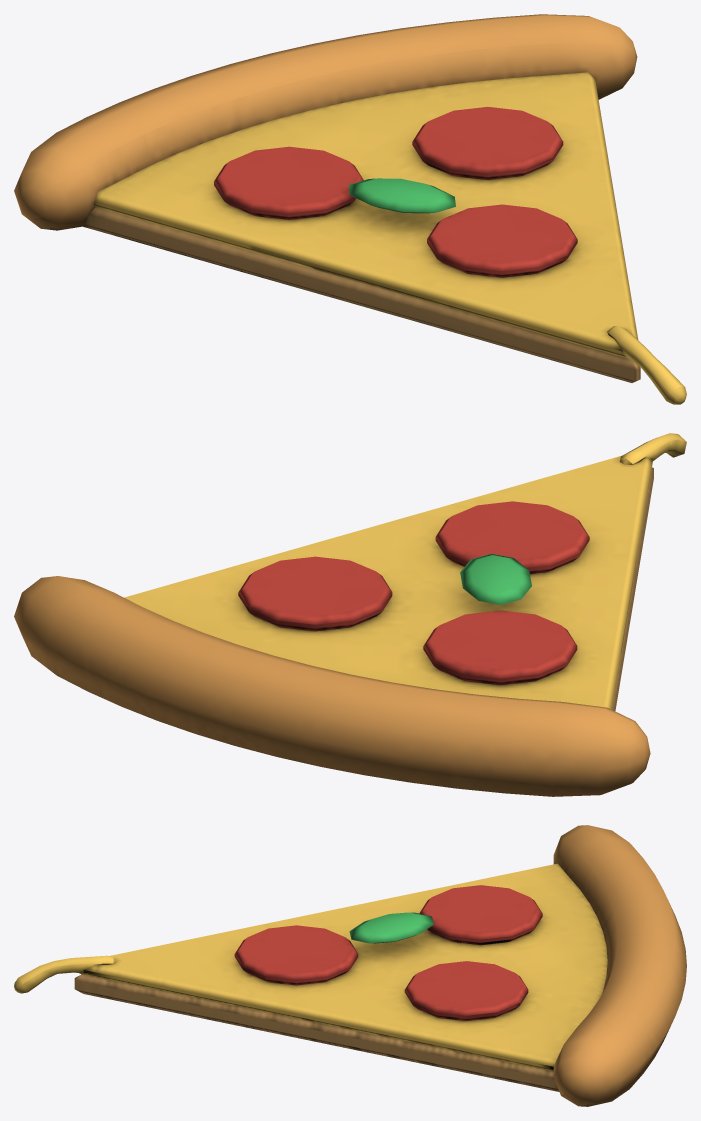
File: pizza_slice.glb
3 renders of one model, top to bottom at view 1: azimuth 30°, elevation 25°; view 2: azimuth 150°, elevation 25°; view 3: azimuth 270°, elevation 25°, orthographic. The views are drawn at different scales.
Parts seen in each view (by area): view 1: pizza_slice; view 2: pizza_slice; view 3: pizza_slice.
Boxes of the visible parts, left/top/right/bottom form: pizza_slice: left=14, top=14, right=686, bottom=404; pizza_slice: left=14, top=433, right=686, bottom=796; pizza_slice: left=14, top=825, right=686, bottom=1106.
Bounding box in the file's own units: 0.1781 × 0.025 × 0.2068.
5 materials, 5 textured.
